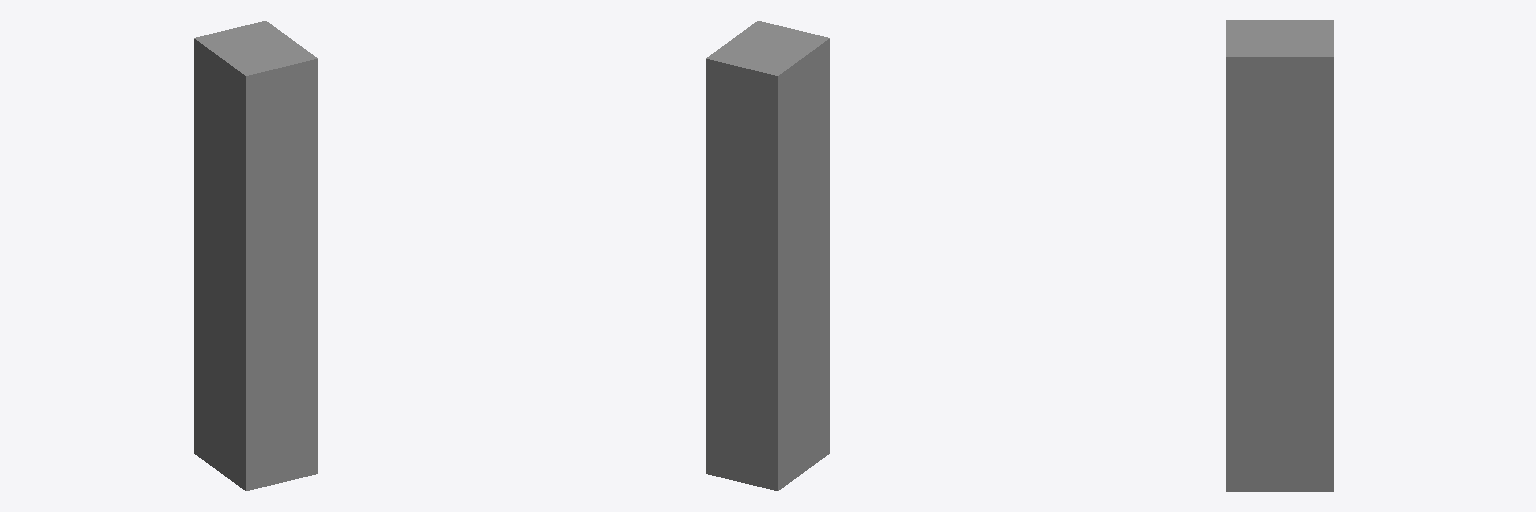
robot.urdf — rotary_slide_mast_1:
<?xml version='1.0' encoding='utf-8'?>
<robot name="rotary_slide_mast_1">
  <link name="mast_1">
    <inertial>
      <origin xyz="0 0 -0.10999999999999999" rpy="0 0 0" />
      <mass value="3.4539999999999997" />
      <inertia ixx="0.014650716666666667" iyy="0.014391666666666636" izz="0.0011801166666666613" ixy="0" iyz="0" ixz="0" />
    </inertial>
    <visual>
      <origin xyz="0.07 0 -0.24" rpy="0 0 0" />
      <geometry>
        <mesh filename="package://rotary_slide_description/meshes/mast_1.stl" scale="0.001 0.001 0.001" />
      </geometry>
      <material name="mast_1_material">
        <color rgba="0.6235294117647059 0.6235294117647059 0.6235294117647059 1" />
      </material>
    </visual>
    <collision>
      <origin xyz="0.07 0 -0.24" rpy="0 0 0" />
      <geometry>
        <mesh filename="package://rotary_slide_description/meshes/mast_1.stl" scale="0.001 0.001 0.001" />
      </geometry>
    </collision>
  </link>
</robot>

--- Render facts (derived) ---
The picture shows the robot from 3 angles, left to right: view 1: azimuth 30°, elevation 25°; view 2: azimuth 150°, elevation 25°; view 3: azimuth 270°, elevation 25°; orthographic projection.
Model rotary_slide_mast_1 with 1 links and 0 joints (none), rooted at mast_1, posed every joint at zero.
Visible links, largest first — view 1: mast_1; view 2: mast_1; view 3: mast_1.
Boxes of the visible links, <box> form: mast_1: <box>194,21,317,490</box>; mast_1: <box>706,21,829,490</box>; mast_1: <box>1226,20,1333,491</box>.
Size in the robot's own frame: 0.04 by 0.05 by 0.22 metres.
Meshes: 1 distinct files referenced, 1 mesh visuals loaded (1 binary STL).
